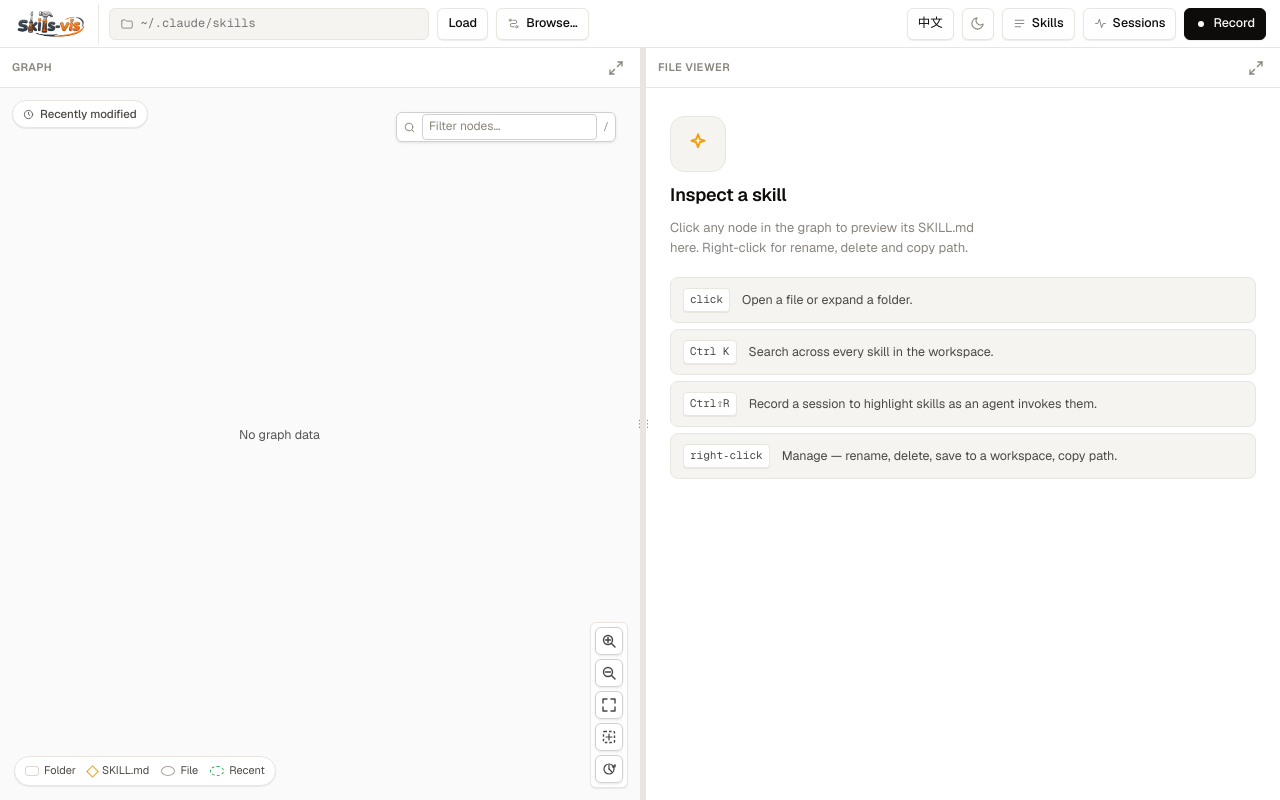
Scenario: Skills Drawer integration › opening the skills drawer closes the monitor drawer
Click the button with test id "open-monitor". click: (1130,24)
box: [1083,8,1176,40]
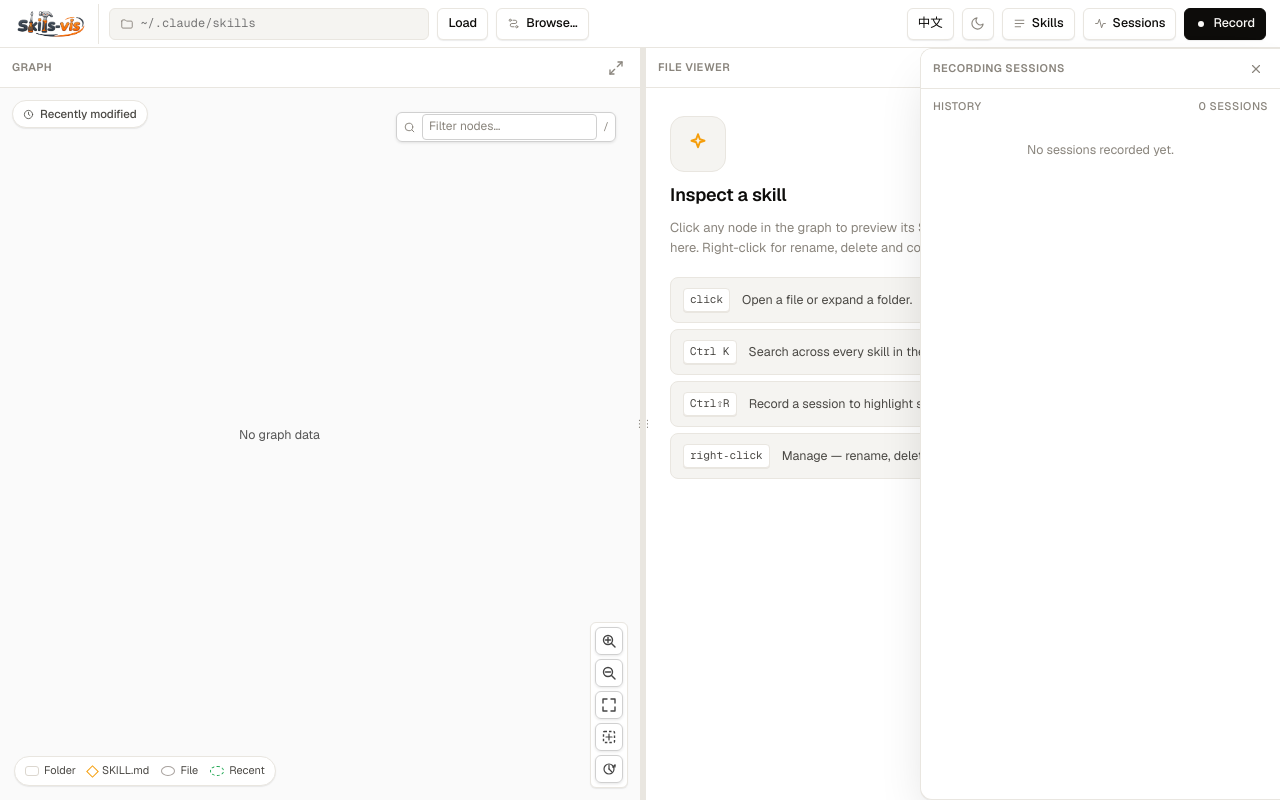
Check: the element with test id "session-monitor-drawer" is shown, box [920,48,1279,799]
Click the button with test id "open-drawer". click: (1038,24)
box: [1002,8,1075,40]
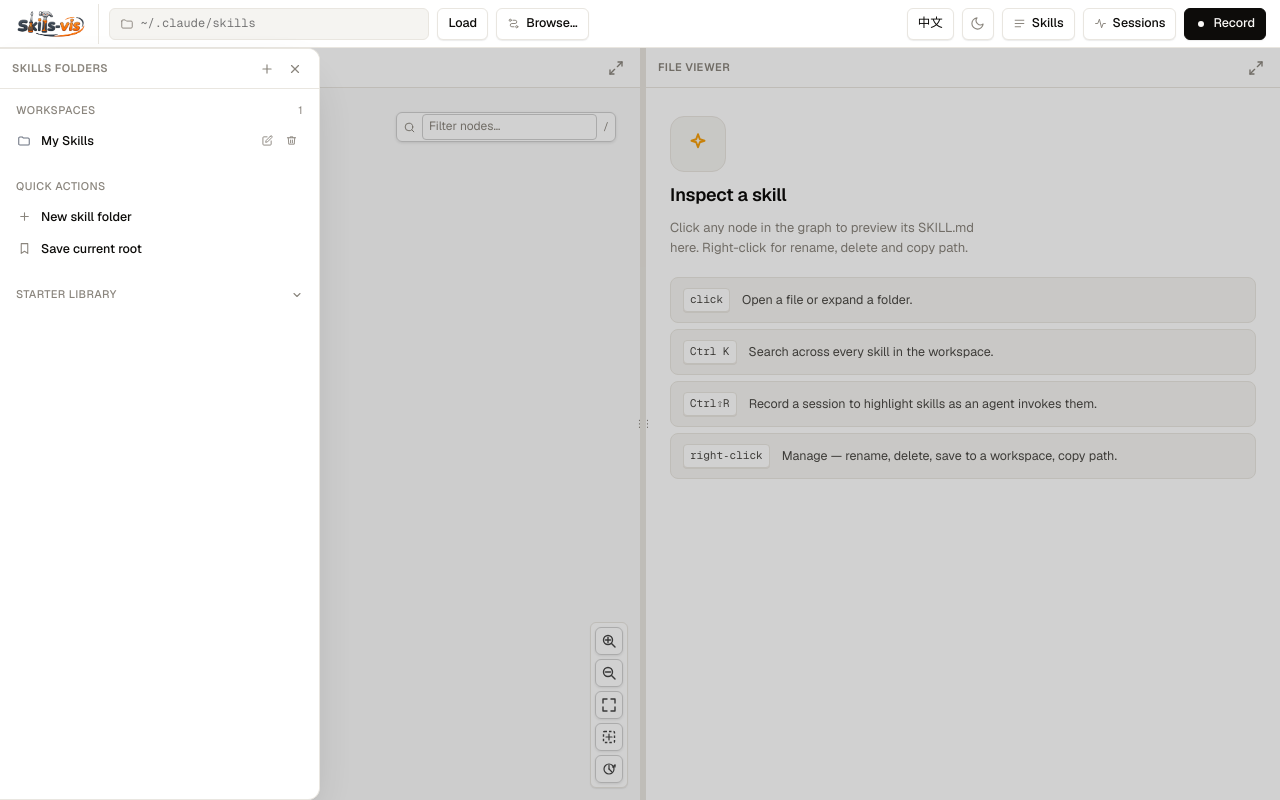
Check: the element with test id "skills-drawer" is shown, box [0,48,320,799]
